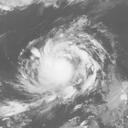cyclone: (26, 42, 80, 94)
